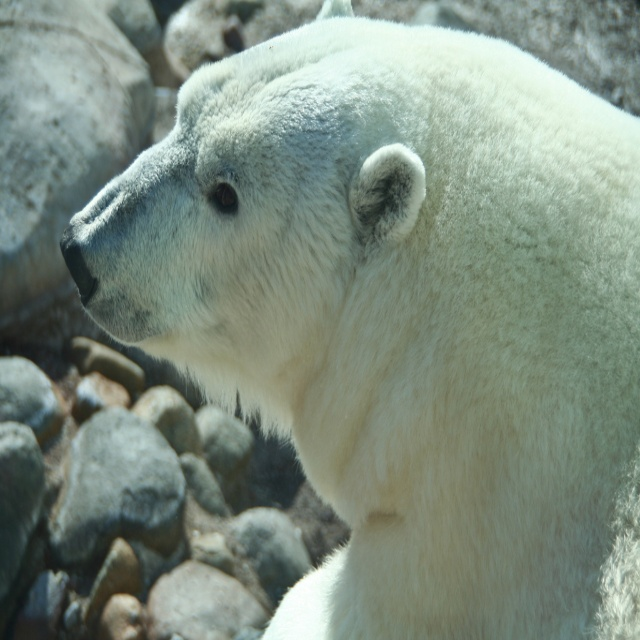Polar bear: (57, 0, 640, 639)
